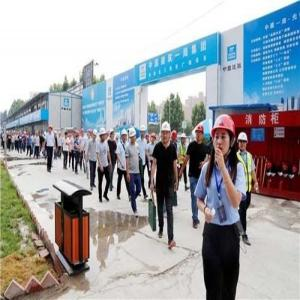red: (211, 113, 237, 160), (195, 124, 205, 144), (171, 130, 178, 143), (151, 133, 158, 145)
white: (238, 131, 250, 154), (129, 127, 138, 143), (100, 127, 108, 143), (121, 129, 129, 143), (140, 125, 147, 140), (93, 128, 99, 142), (110, 129, 116, 141), (181, 133, 187, 144)
